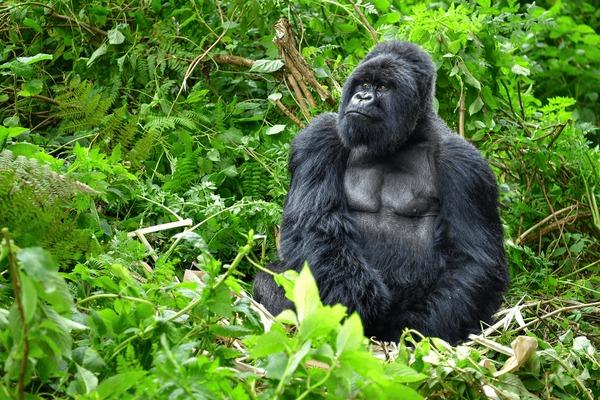goriile_montagne: (273, 34, 507, 330)
